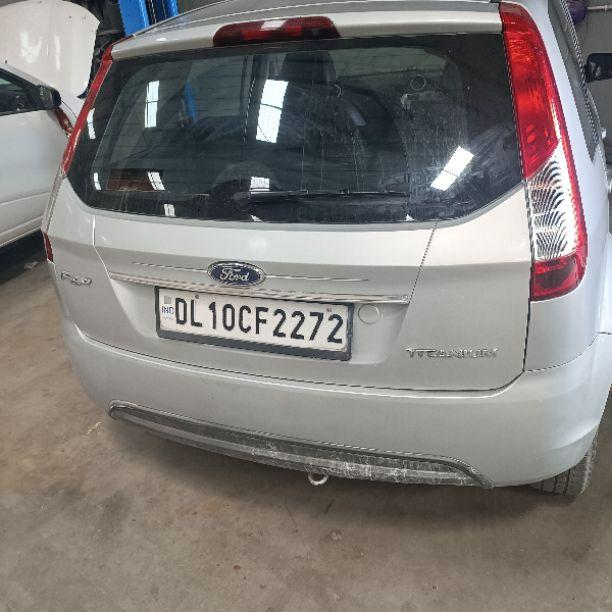license_plate: (154, 285, 353, 361)
